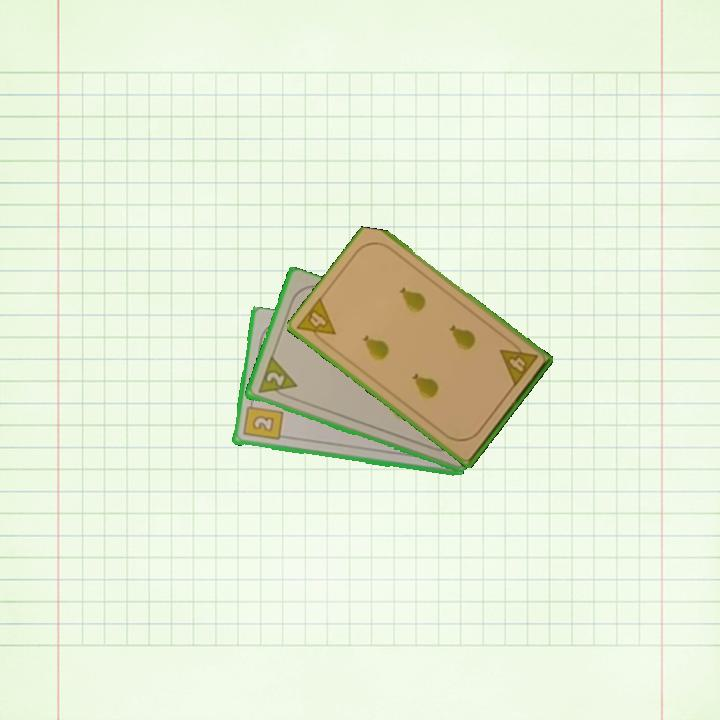2b: (240, 397, 285, 443)
2p: (254, 354, 299, 403)
4p: (293, 294, 339, 349), (496, 337, 540, 389)
